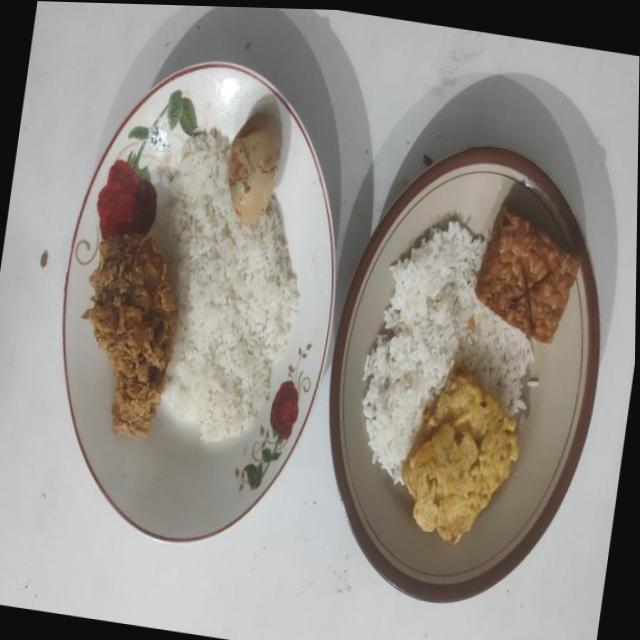nasi_putih: (362, 220, 533, 482), (166, 128, 299, 440)
tempe_goreng: (474, 207, 578, 343)
